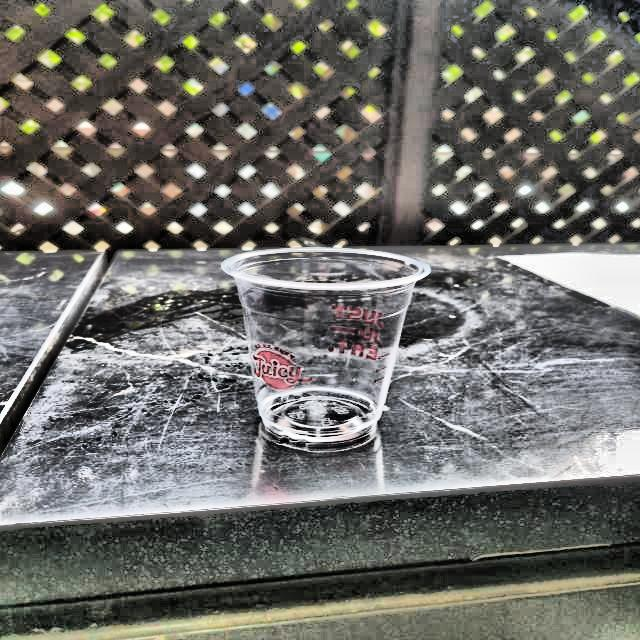plastic cup: (214, 241, 435, 459)
